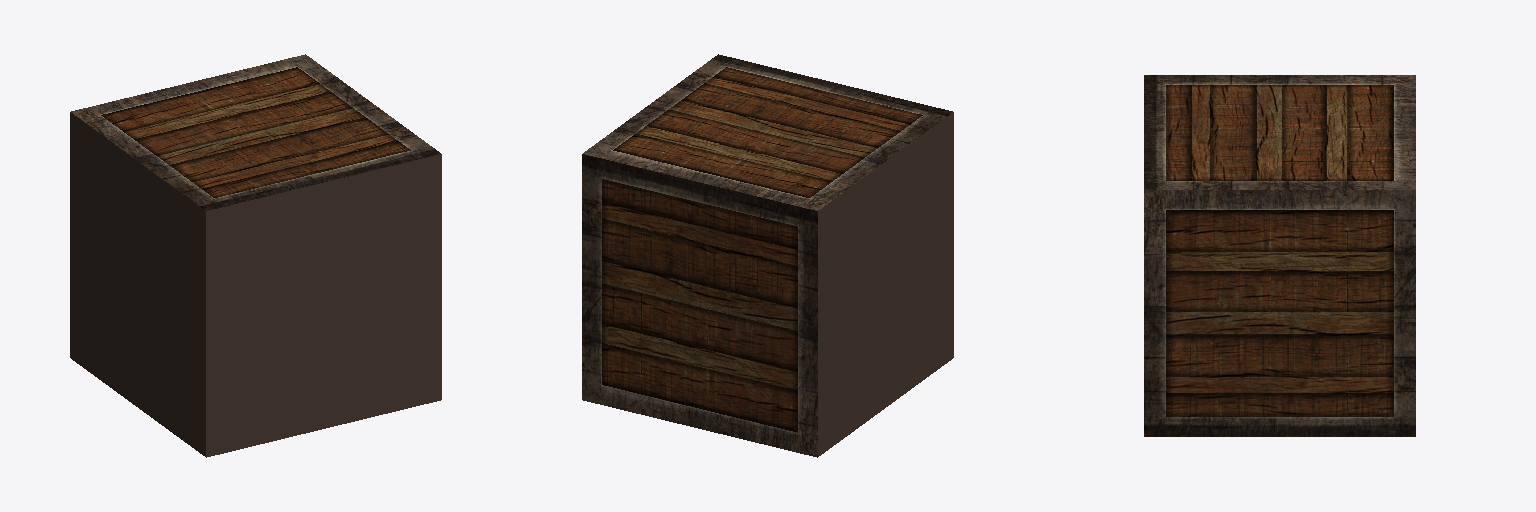
3 renders of one model, left to right at view 1: azimuth 30°, elevation 25°; view 2: azimuth 150°, elevation 25°; view 3: azimuth 270°, elevation 25°, orthographic.
Parts seen in each view (by area): view 1: Cube; view 2: Cube; view 3: Cube.
Part boxes in pixels (x1,y1,x2,y2): Cube: (70, 54, 441, 457); Cube: (582, 54, 953, 457); Cube: (1144, 75, 1415, 436).
Size of the model in its own units: 2 by 2 by 2.
Materials: 2 (1 with a texture image).